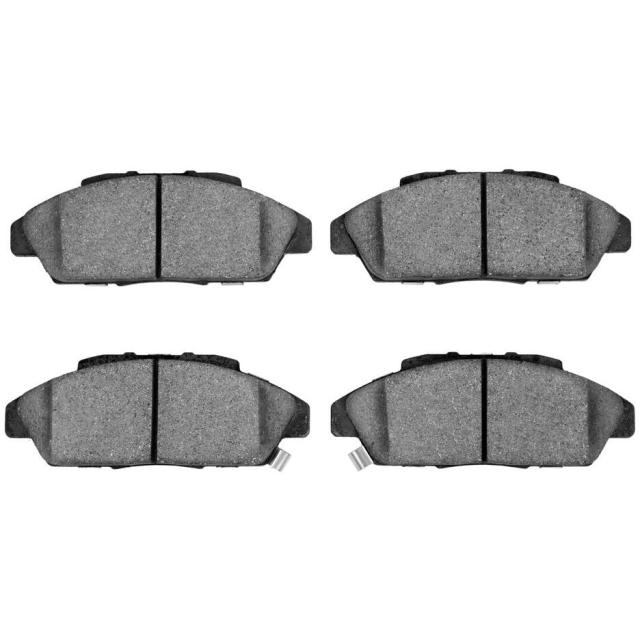brake_pad: (8, 150, 314, 296), (326, 340, 638, 480), (322, 158, 634, 292), (3, 345, 312, 476)
